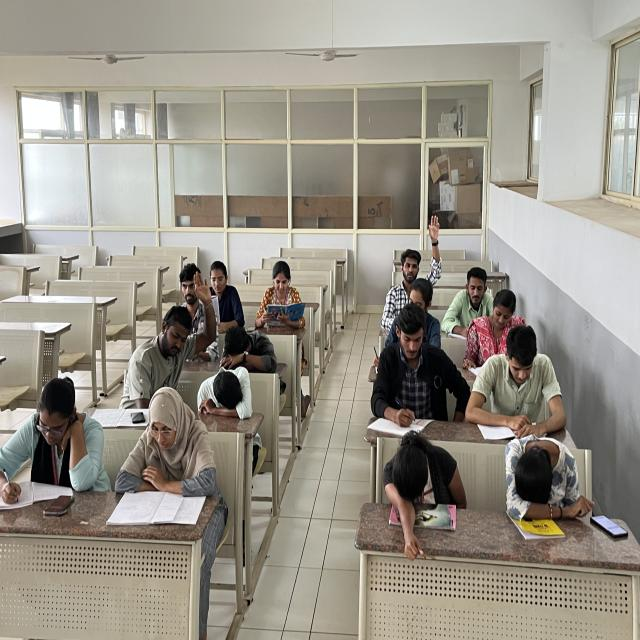Hand Rising: (136, 274, 220, 378), (384, 217, 448, 316)
Reading: (117, 378, 216, 508), (254, 259, 316, 332)
Sleeping: (368, 422, 472, 552), (495, 426, 595, 524), (194, 368, 256, 422), (218, 324, 284, 374)
Writing: (4, 377, 109, 515), (367, 311, 464, 433)
